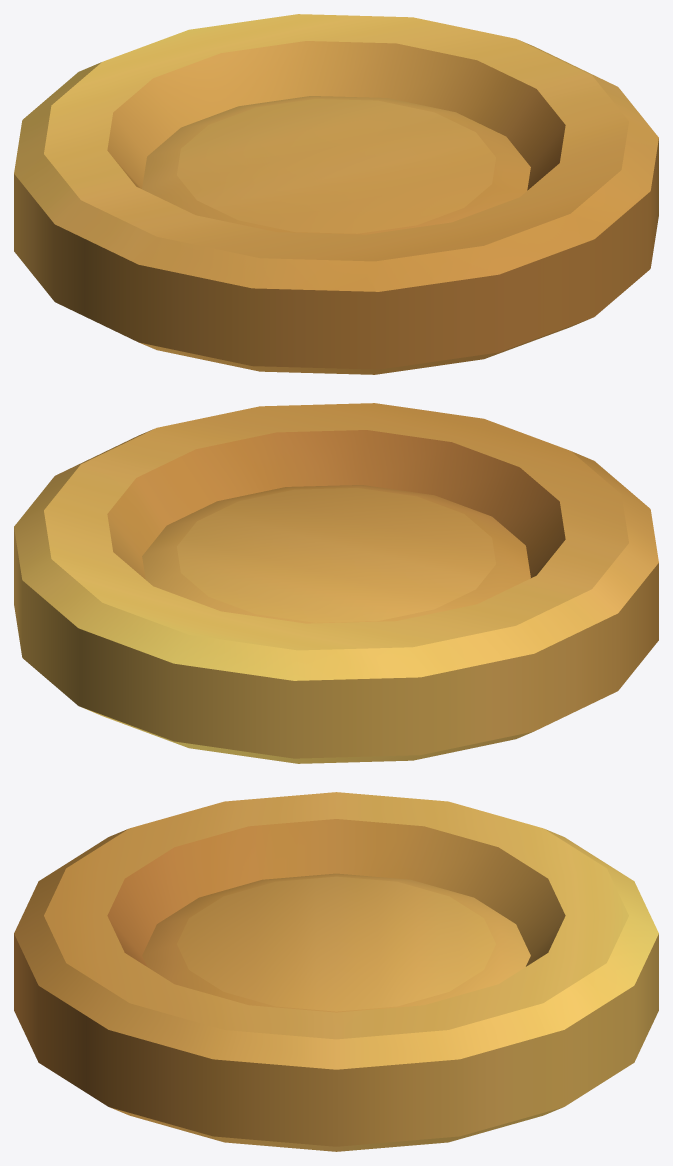
The model's file is board.coin_gold.glb.
3 views of the same model, one above another, from view 1: azimuth 30°, elevation 25°; view 2: azimuth 150°, elevation 25°; view 3: azimuth 270°, elevation 25° (orthographic).
Visible parts, largest first — view 1: coin_gold; view 2: coin_gold; view 3: coin_gold.
Boxes of the visible parts, x1,y1,x2,y2 form: coin_gold: [14, 14, 658, 374]; coin_gold: [14, 403, 658, 763]; coin_gold: [14, 792, 658, 1151].
Size of the model in its own units: 0.0277 by 0.00533 by 0.0277.
1 material, 1 textured.
